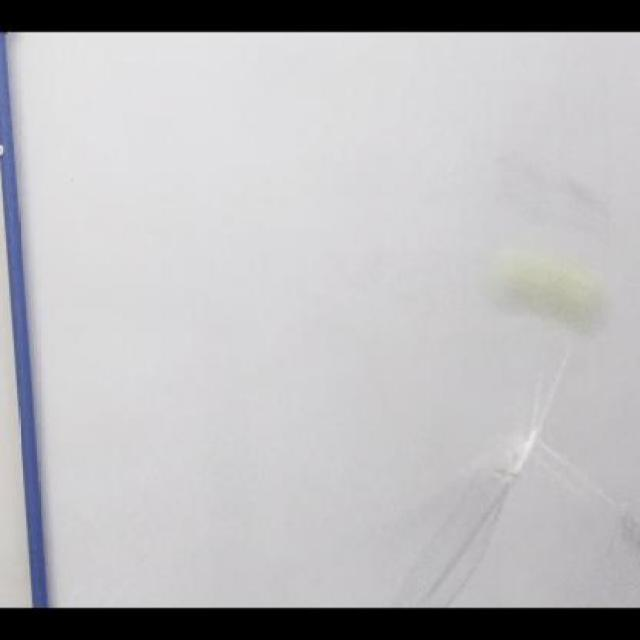baseball: (482, 251, 613, 329)
